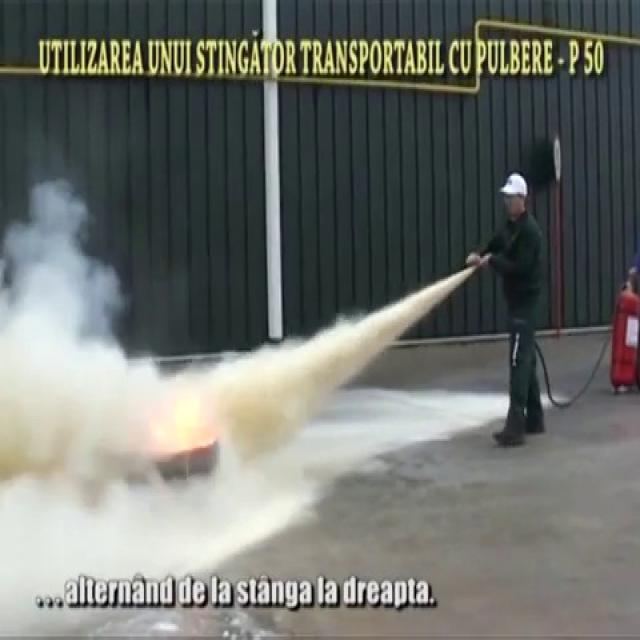Smoke: (0, 186, 175, 544)
